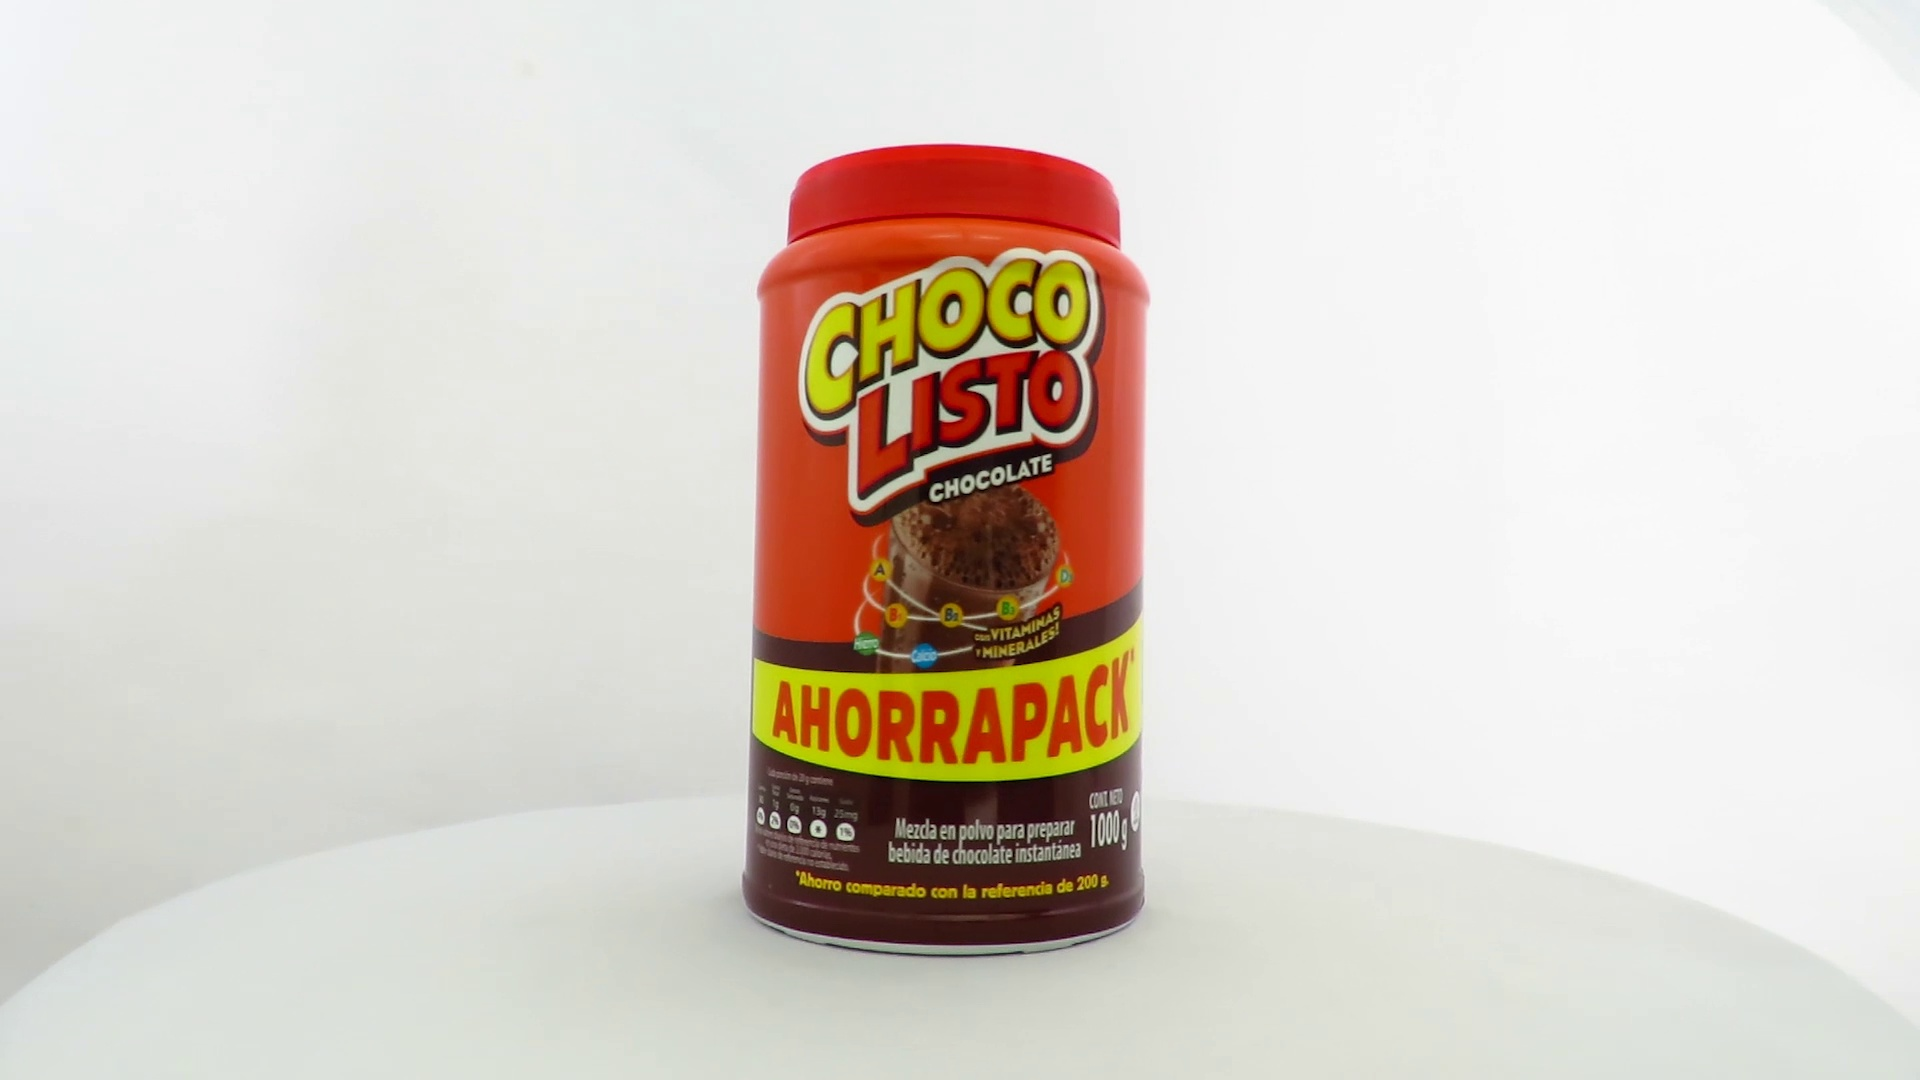COL0170103TRR00100: (737, 138, 1156, 964)
